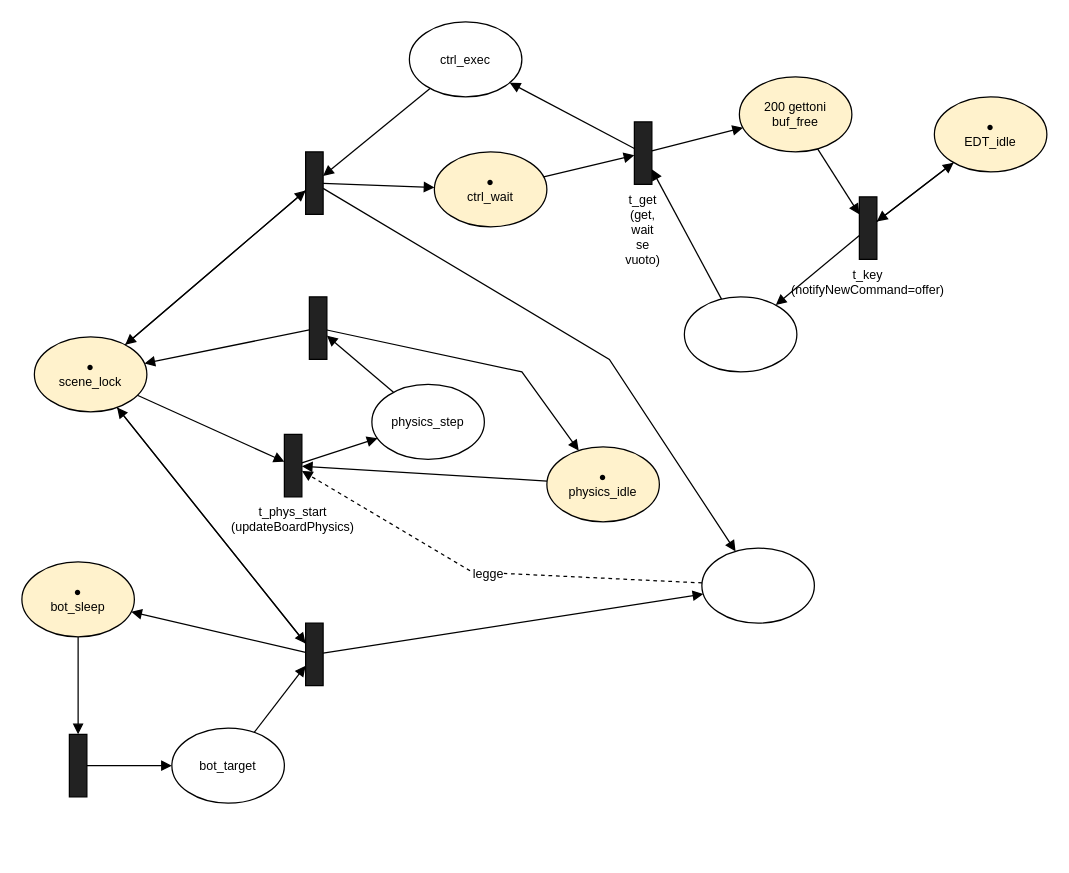
The diagram is 1069 pixels wide and 873 high, and some of its shapes have lost their labels. The centre of each missing label's shape, as x and y in pixels:
"buffer" belongs at [740,334].
"palline giocatori" belongs at [757,585].
"t_exec (updateBoard: kickPlayer)" belongs at [313,182].
"t_kick (kickBot)" belongs at [313,654].
"t_phys_end (notify observers)" belongs at [317,327].
"t_think (sleep 700ms)" belongs at [77,765].
